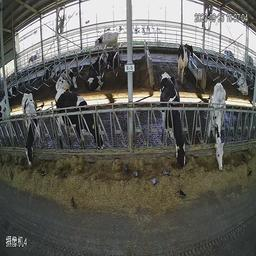cow: (54, 88, 105, 153), (158, 69, 184, 170), (209, 81, 227, 170), (19, 92, 39, 172), (85, 32, 111, 60), (177, 43, 194, 85), (84, 59, 105, 92), (56, 68, 77, 94), (233, 70, 249, 96), (105, 48, 119, 71)
